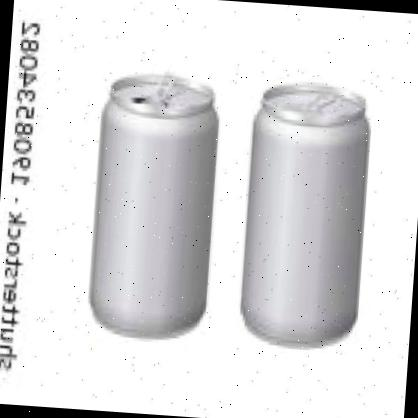can: (86, 66, 227, 342), (238, 79, 376, 354)
